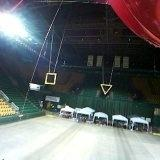Yellow_Square_GShape: (44, 71, 55, 84)
Yellow_Triangle_Gshape: (100, 83, 111, 96)
